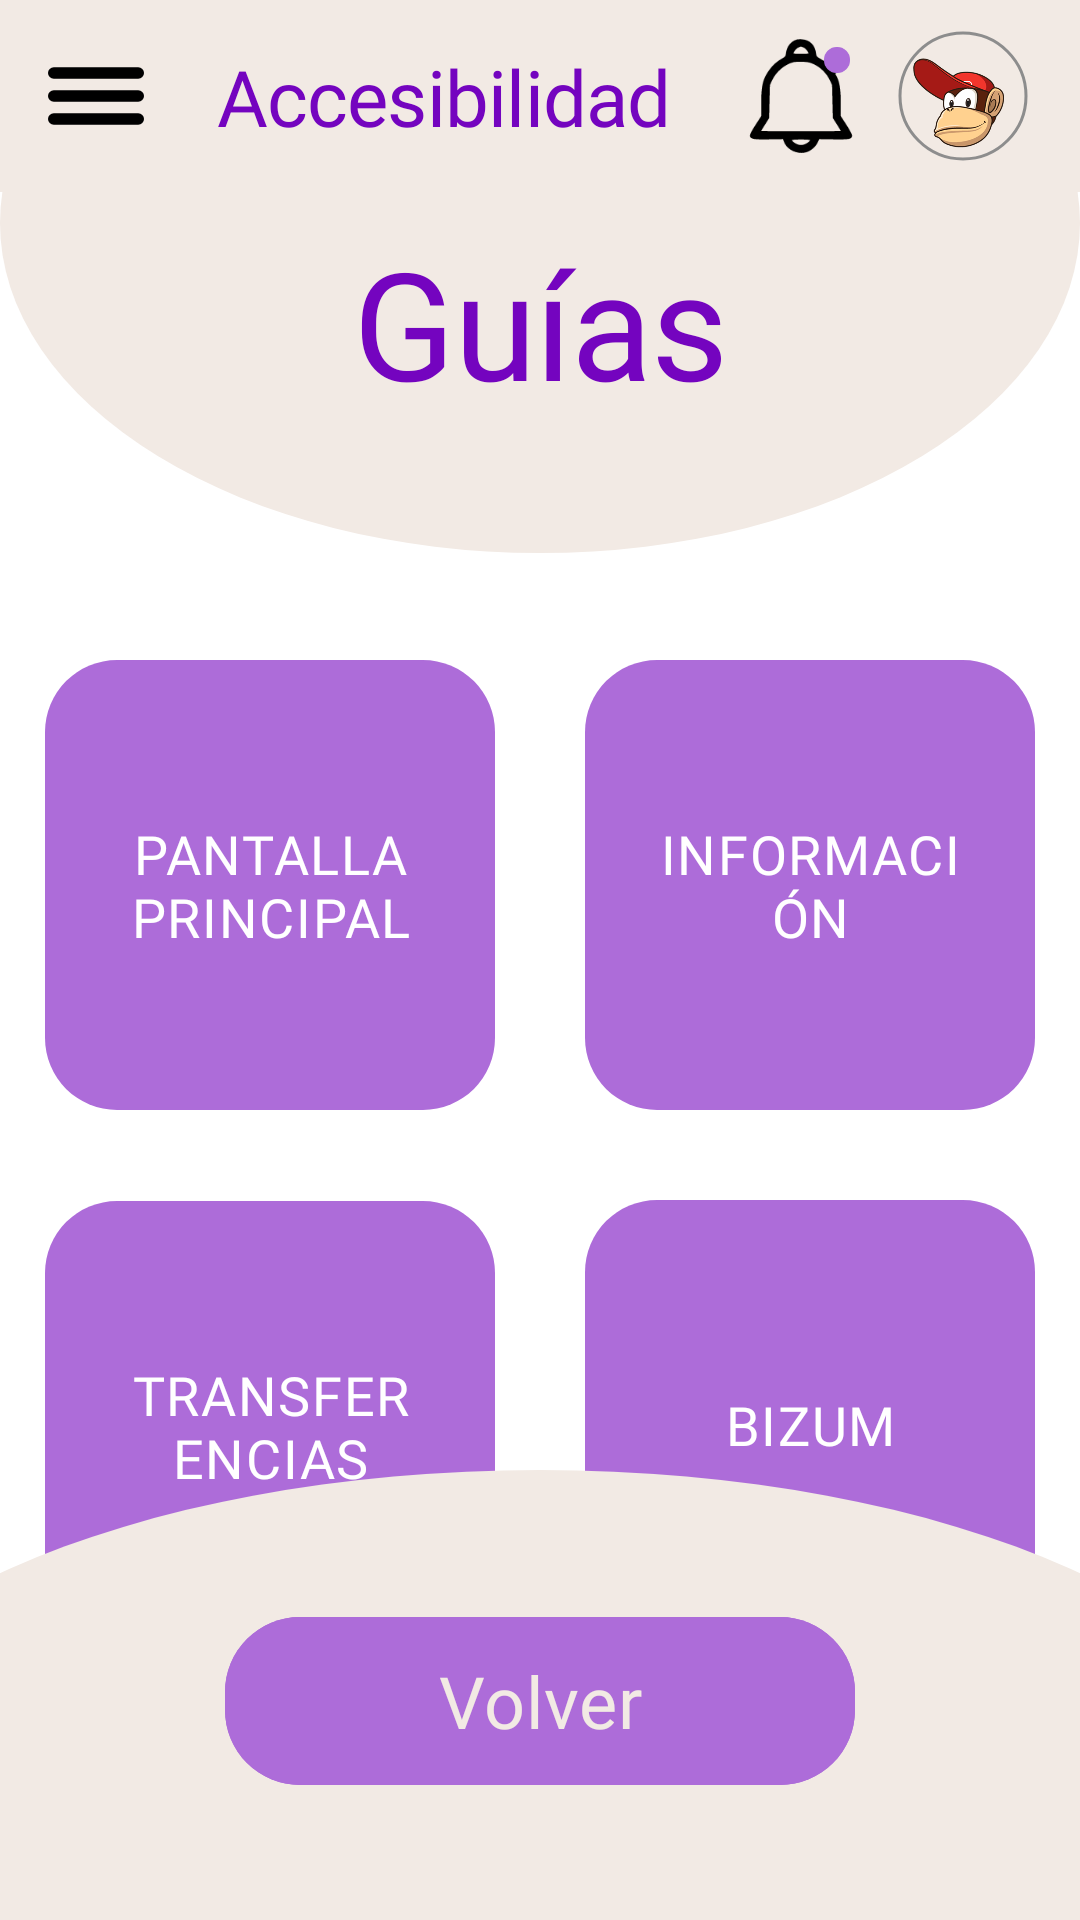

Where to tap for icons on this 1080px x 1920px app screen, as point (x, y):
Menú: point (96, 96)
